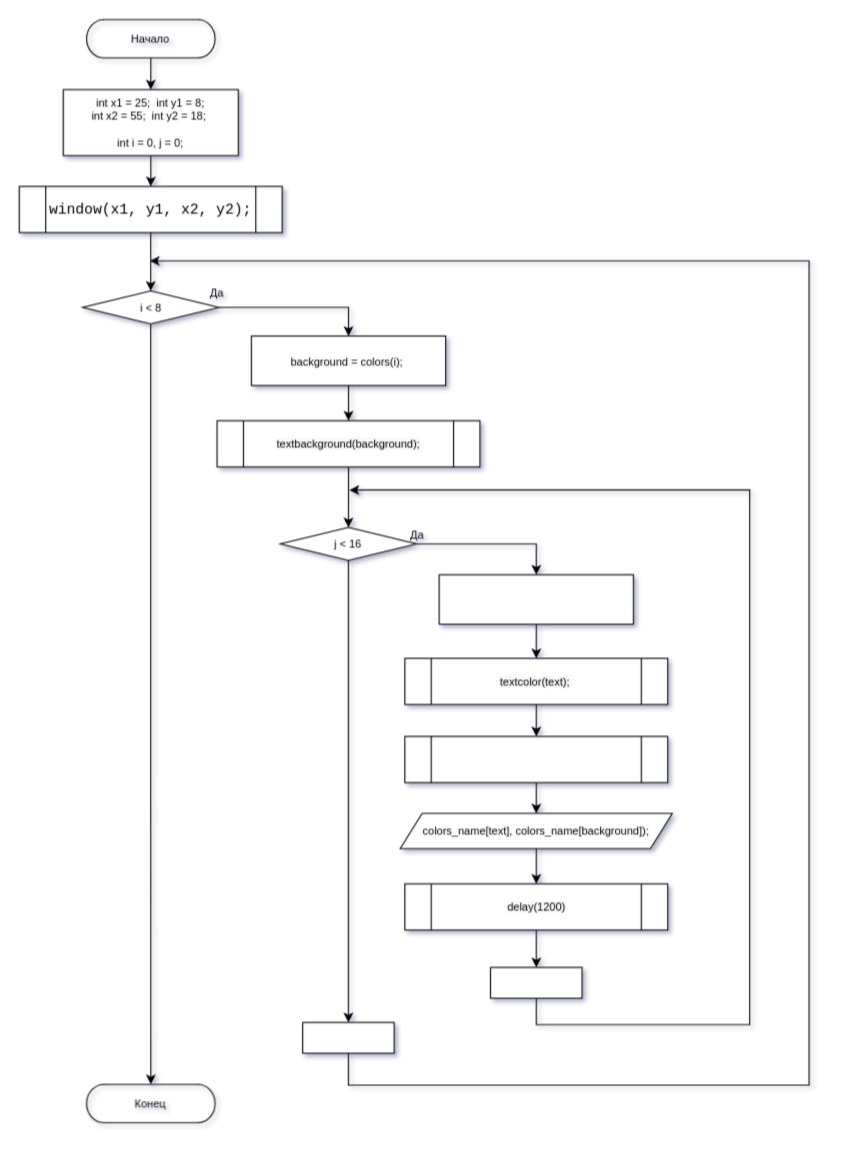
Some shapes in this 844 by 1150 pixel diagram are drawn without their labels. Each missing label, with the centre of its shape:
"i++" goes at point 348,1037.
"insline();" goes at point 536,759.
"j++" goes at point 535,982.
"text = colors(j);" goes at point 535,599.
